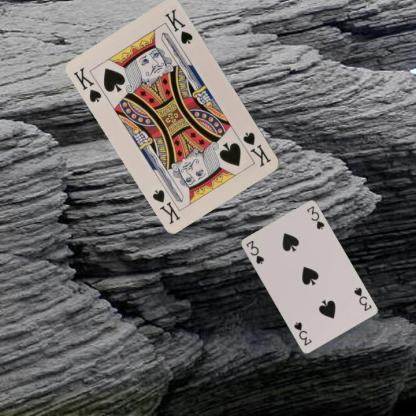3s: (243, 238, 265, 265), (350, 285, 372, 312)
Ks: (240, 129, 274, 169), (70, 64, 104, 104)
